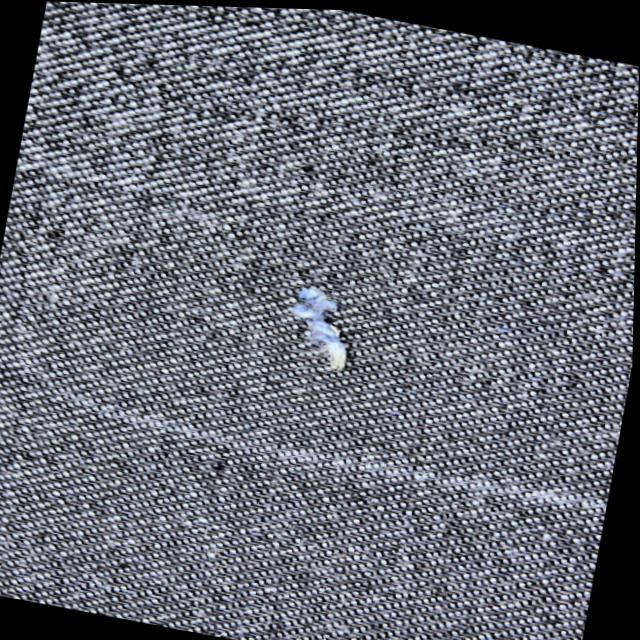Hole: (291, 288, 361, 370)
